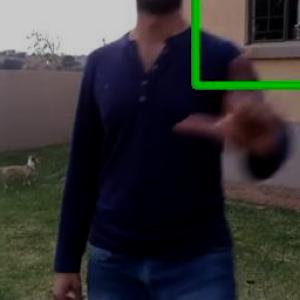land_hand: (173, 40, 296, 165)
